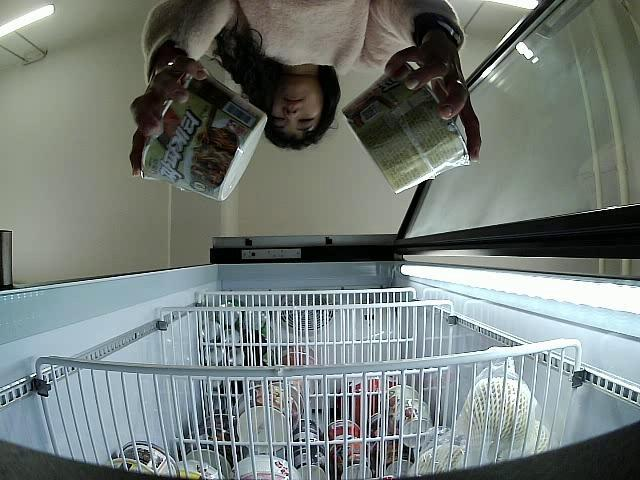03_chapagetti_L: (342, 59, 471, 196), (138, 65, 266, 198)
